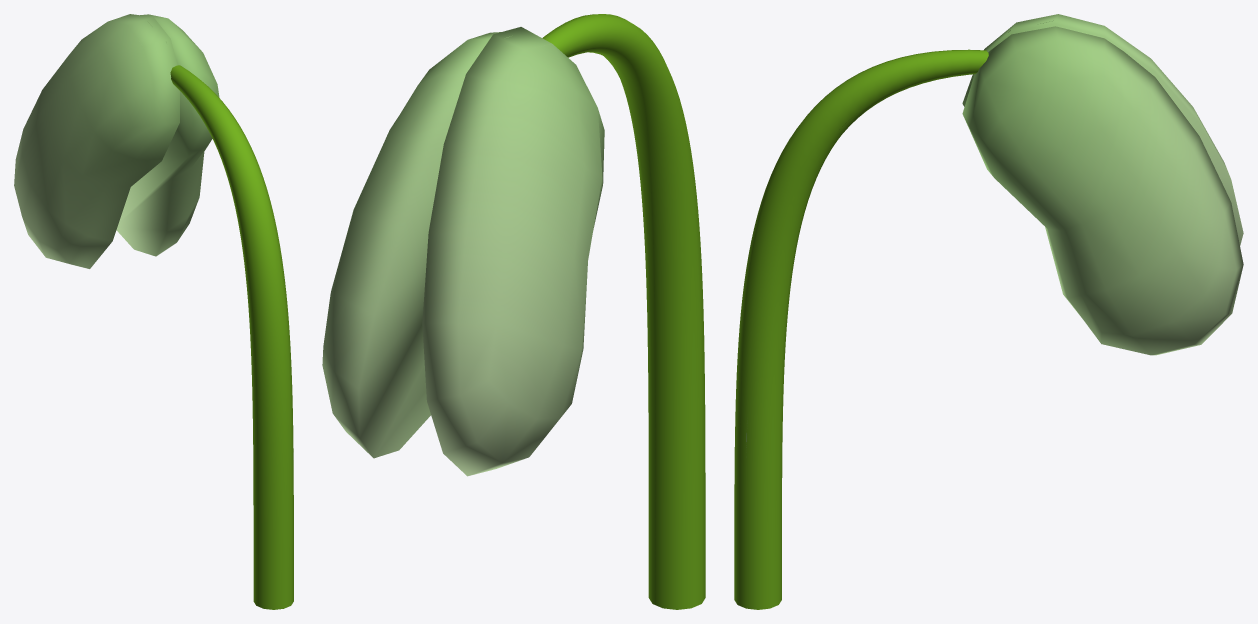
File: LV2_KidneyBeen.obj
3 renders of one model, left to right at view 1: azimuth 30°, elevation 25°; view 2: azimuth 150°, elevation 25°; view 3: azimuth 270°, elevation 25°, orthographic. The views are drawn at different scales.
Visible parts, largest first — view 1: Level2; view 2: Level2; view 3: Level2.
Part boxes in pixels (<box>): Level2: <box>14,14,293,609</box>; Level2: <box>322,14,705,609</box>; Level2: <box>734,14,1243,609</box>.
Size of the model in its own units: 1.07 by 3.22 by 2.57.
1 material, 1 textured.
